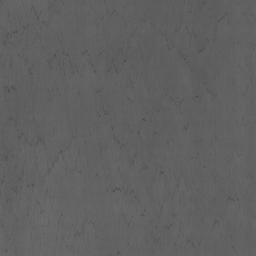Silk spot: (0, 45, 255, 253), (0, 0, 239, 103), (201, 216, 222, 227)
